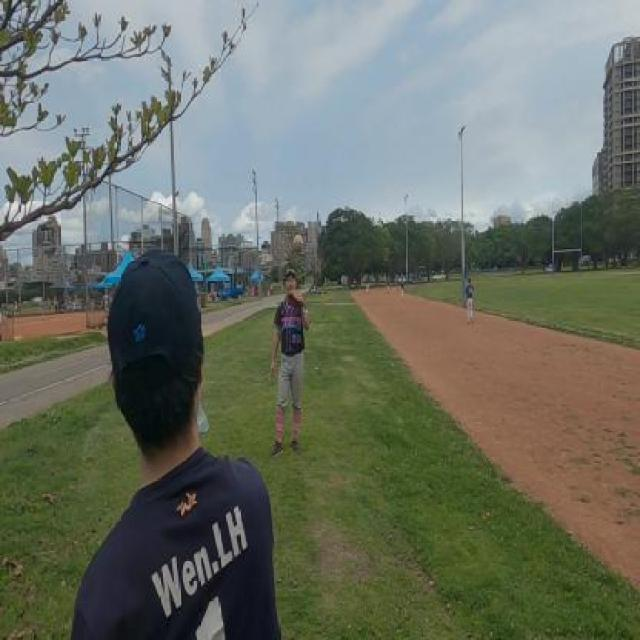baseball: (293, 234, 304, 252)
